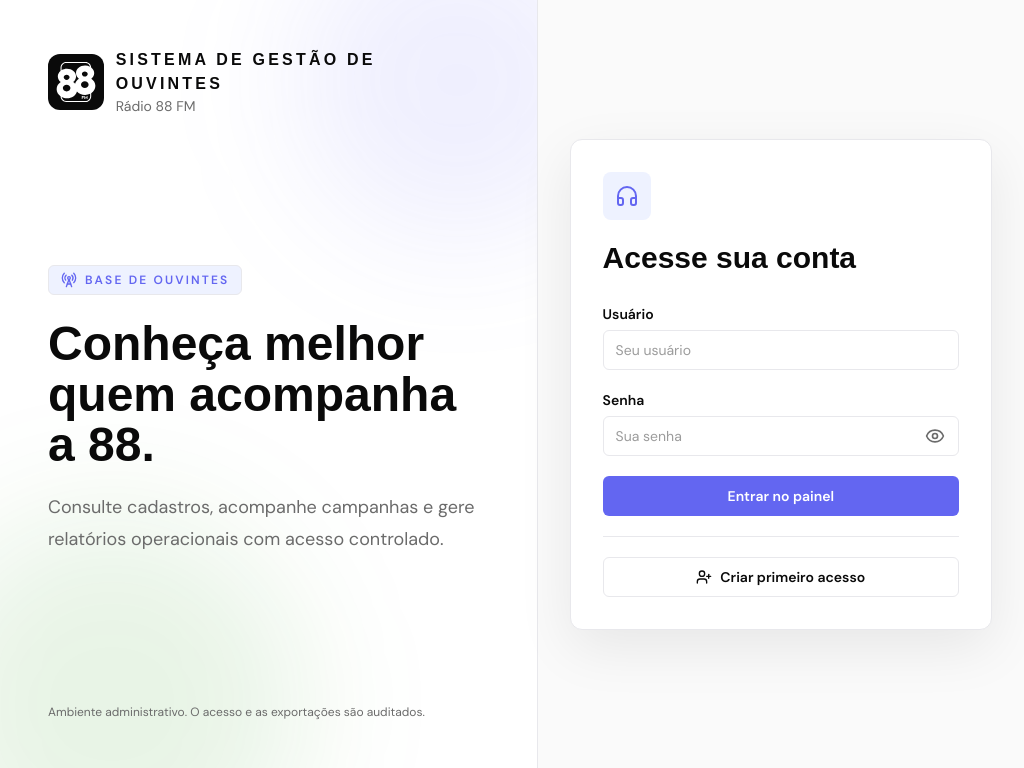
Test case: App › cria o primeiro administrador quando o bootstrap esta disponivel
Click the button "Criar primeiro acesso" at {"x": 781, "y": 576}, box [603,556,959,596]
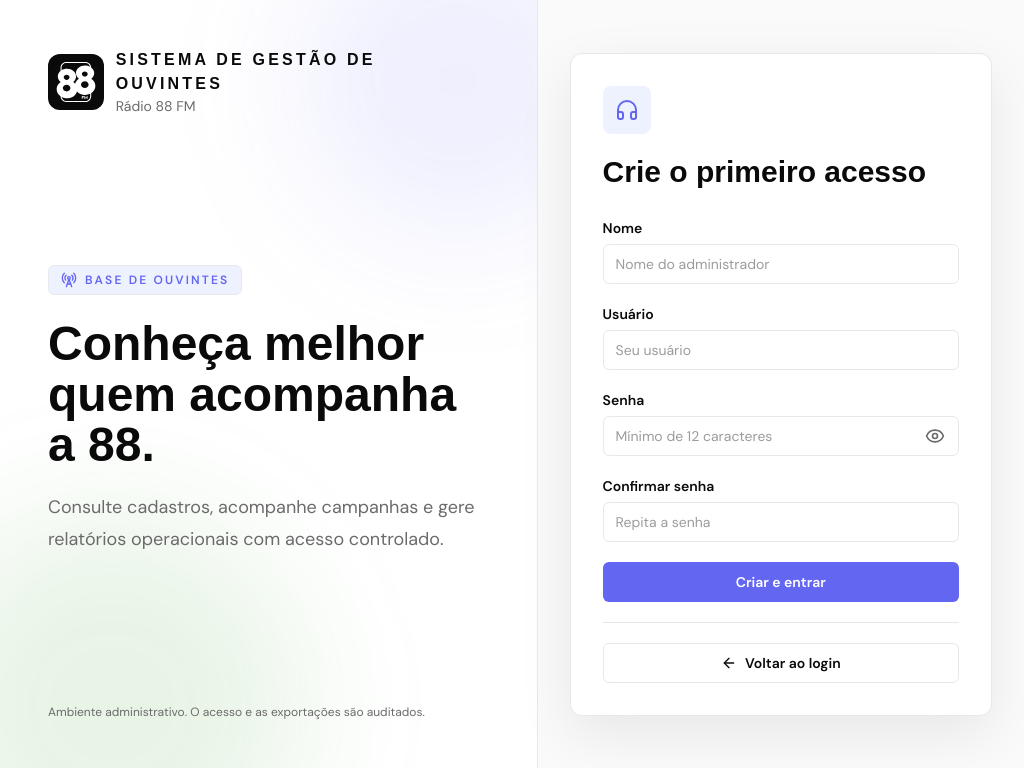
Type "Administrador Inicial" into the field labelled "Nome" at {"x": 781, "y": 264}, box [603,244,959,284]
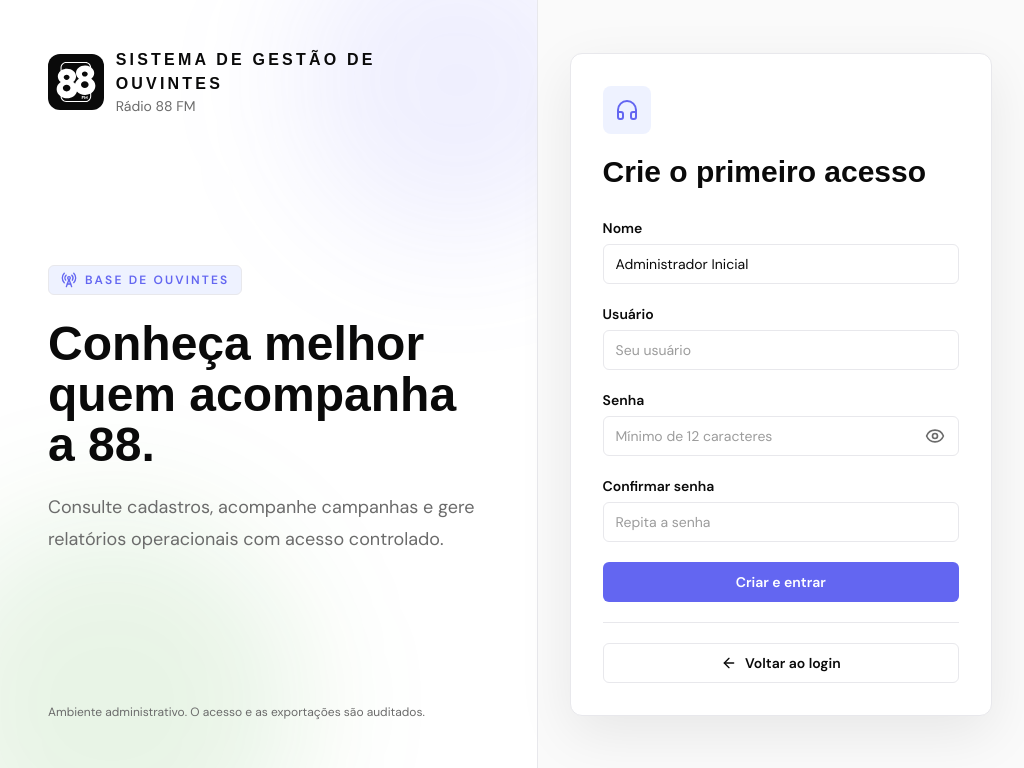
Type "admin" into the field labelled "Usuário" at {"x": 781, "y": 350}, box [603,330,959,370]
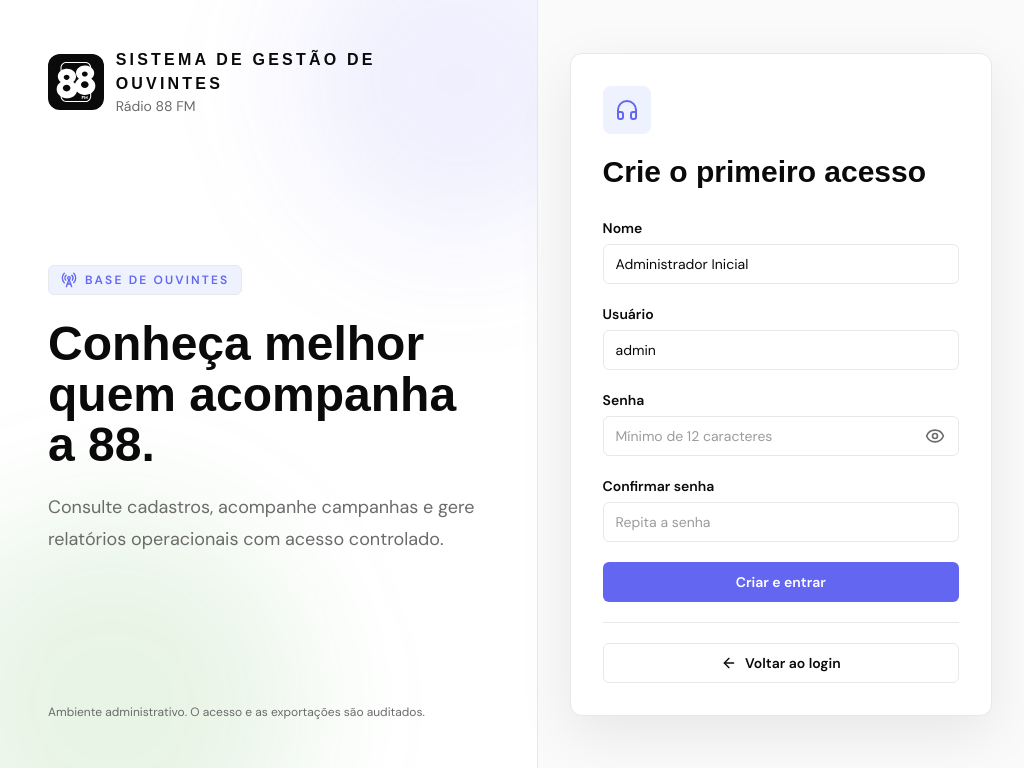
Type "development-admin-password" into the password field labelled "Senha" at {"x": 781, "y": 436}, box [603,416,959,456]
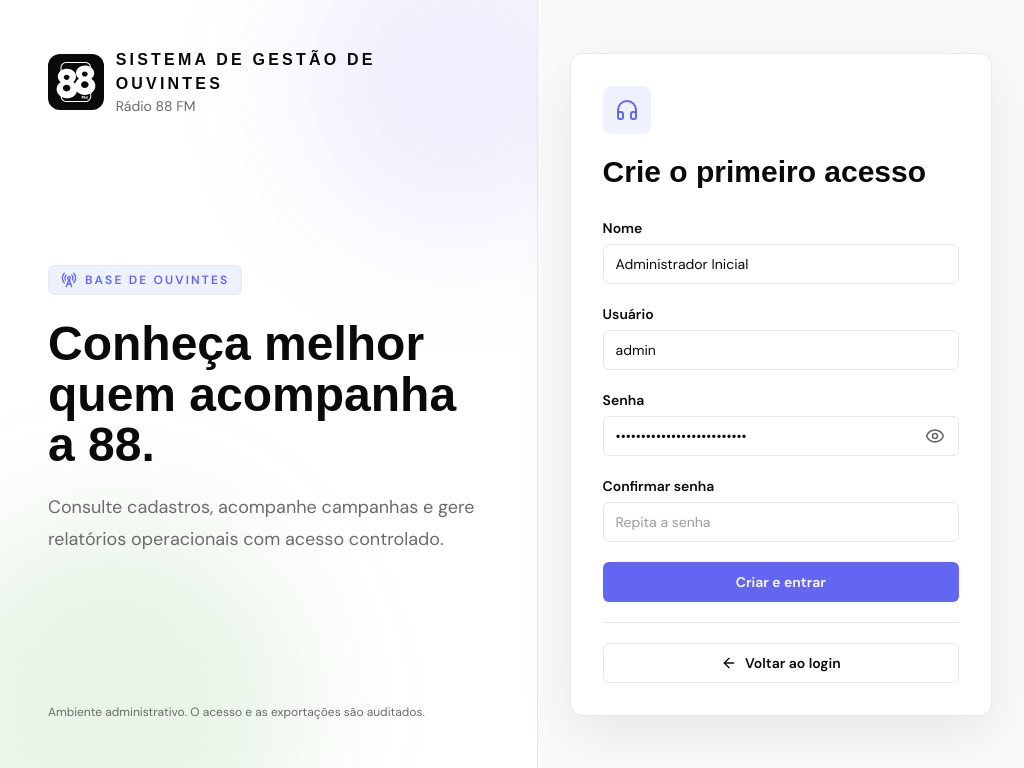
Type "development-admin-password" into the password field labelled "Confirmar senha" at {"x": 781, "y": 522}, box [603,502,959,542]
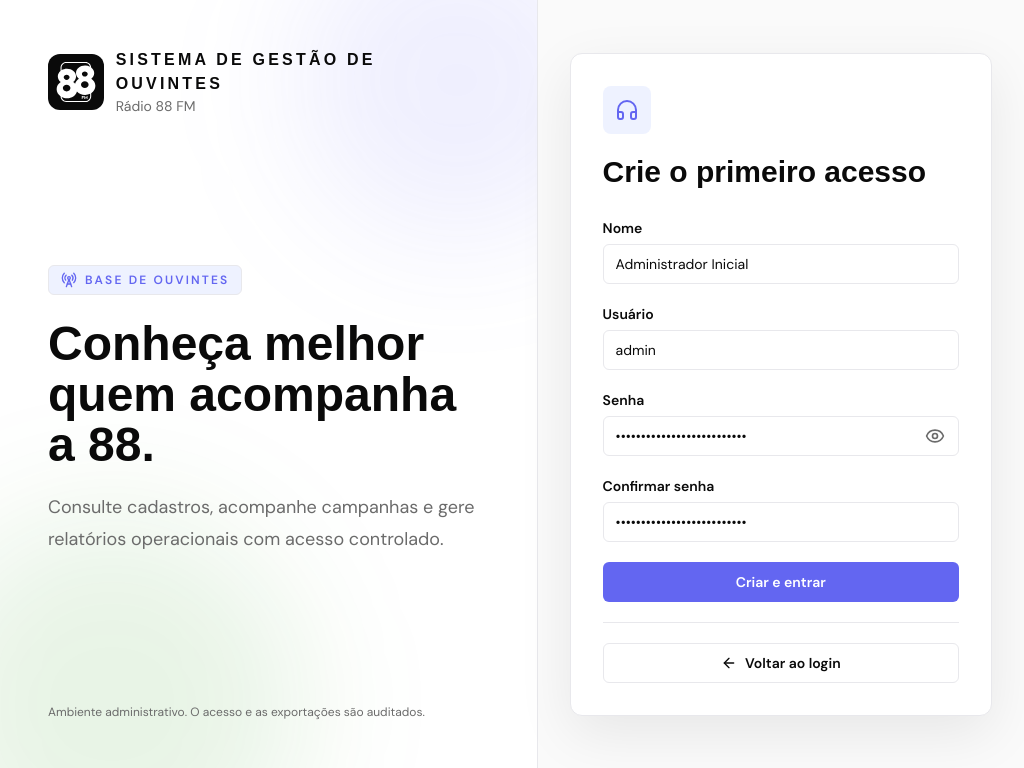
Click the button "Criar e entrar" at {"x": 781, "y": 582}, box [603,562,959,602]
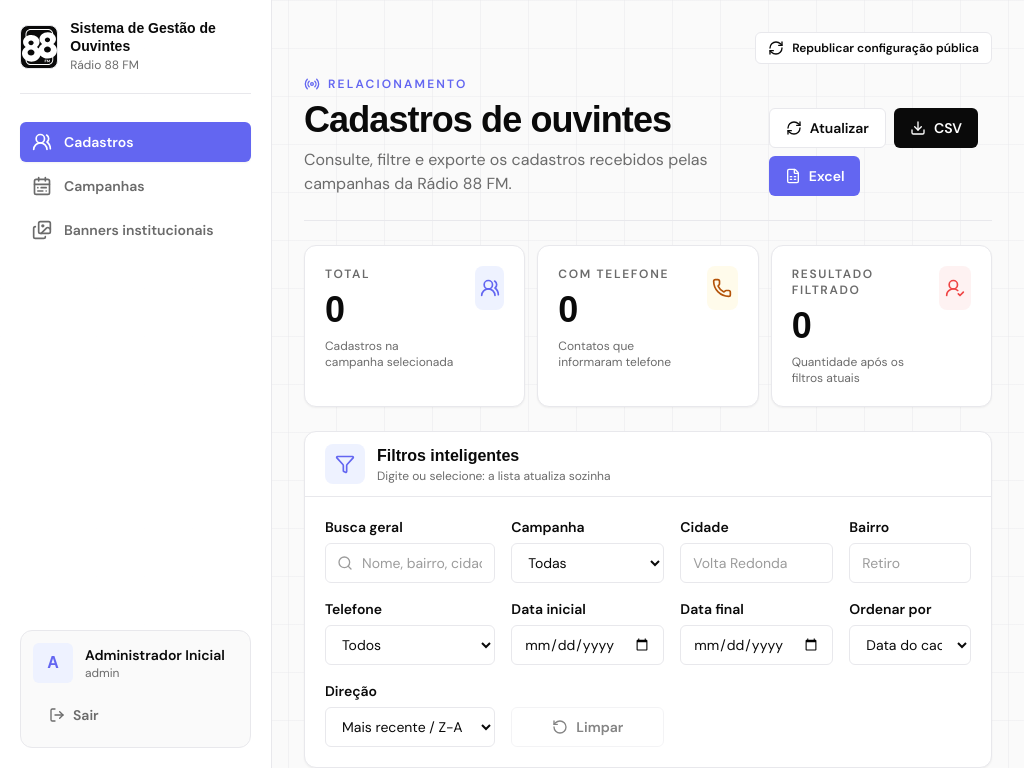
Expected: the heading "Cadastros de ouvintes" is shown, [304,99,671,140]
